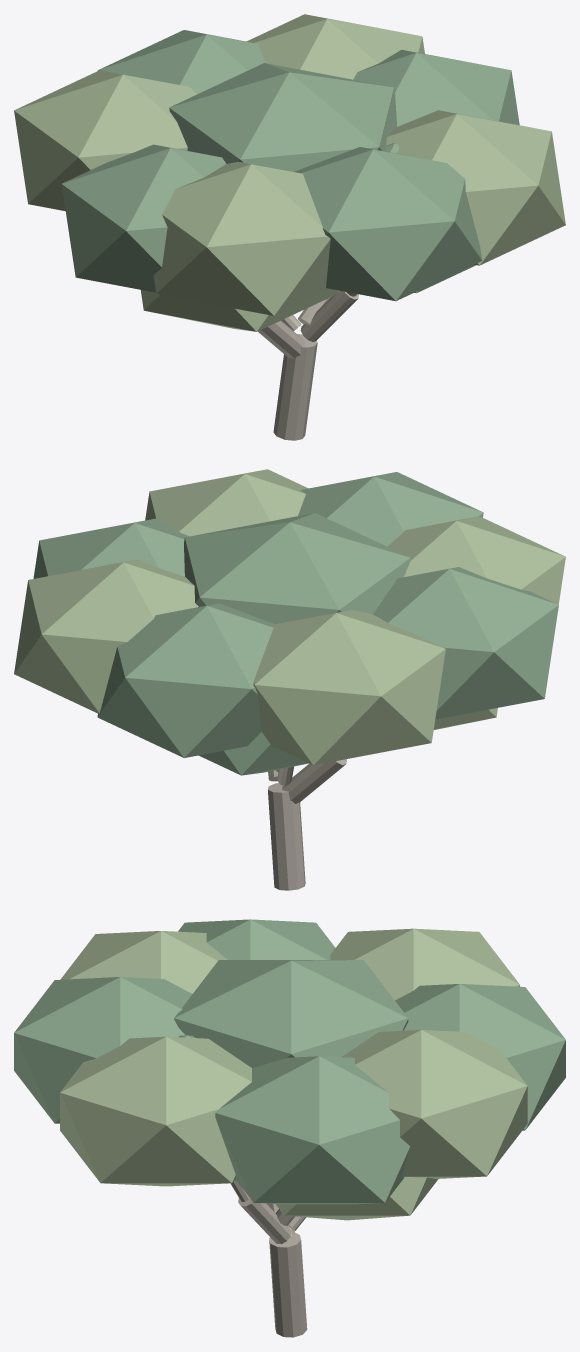
File: plane-tree-massing-b.glb
3 views of the same model, one above another, from view 1: azimuth 30°, elevation 25°; view 2: azimuth 150°, elevation 25°; view 3: azimuth 270°, elevation 25° (orthographic).
Visible parts, largest first — view 1: plane-tree-massing-b; view 2: plane-tree-massing-b; view 3: plane-tree-massing-b.
Part boxes in pixels (x1=…): plane-tree-massing-b: x1=14, y1=14, x2=565, y2=440; plane-tree-massing-b: x1=14, y1=469, x2=565, y2=890; plane-tree-massing-b: x1=14, y1=919, x2=565, y2=1337.
Size of the model in its own units: 10.83 by 8.01 by 10.82.
